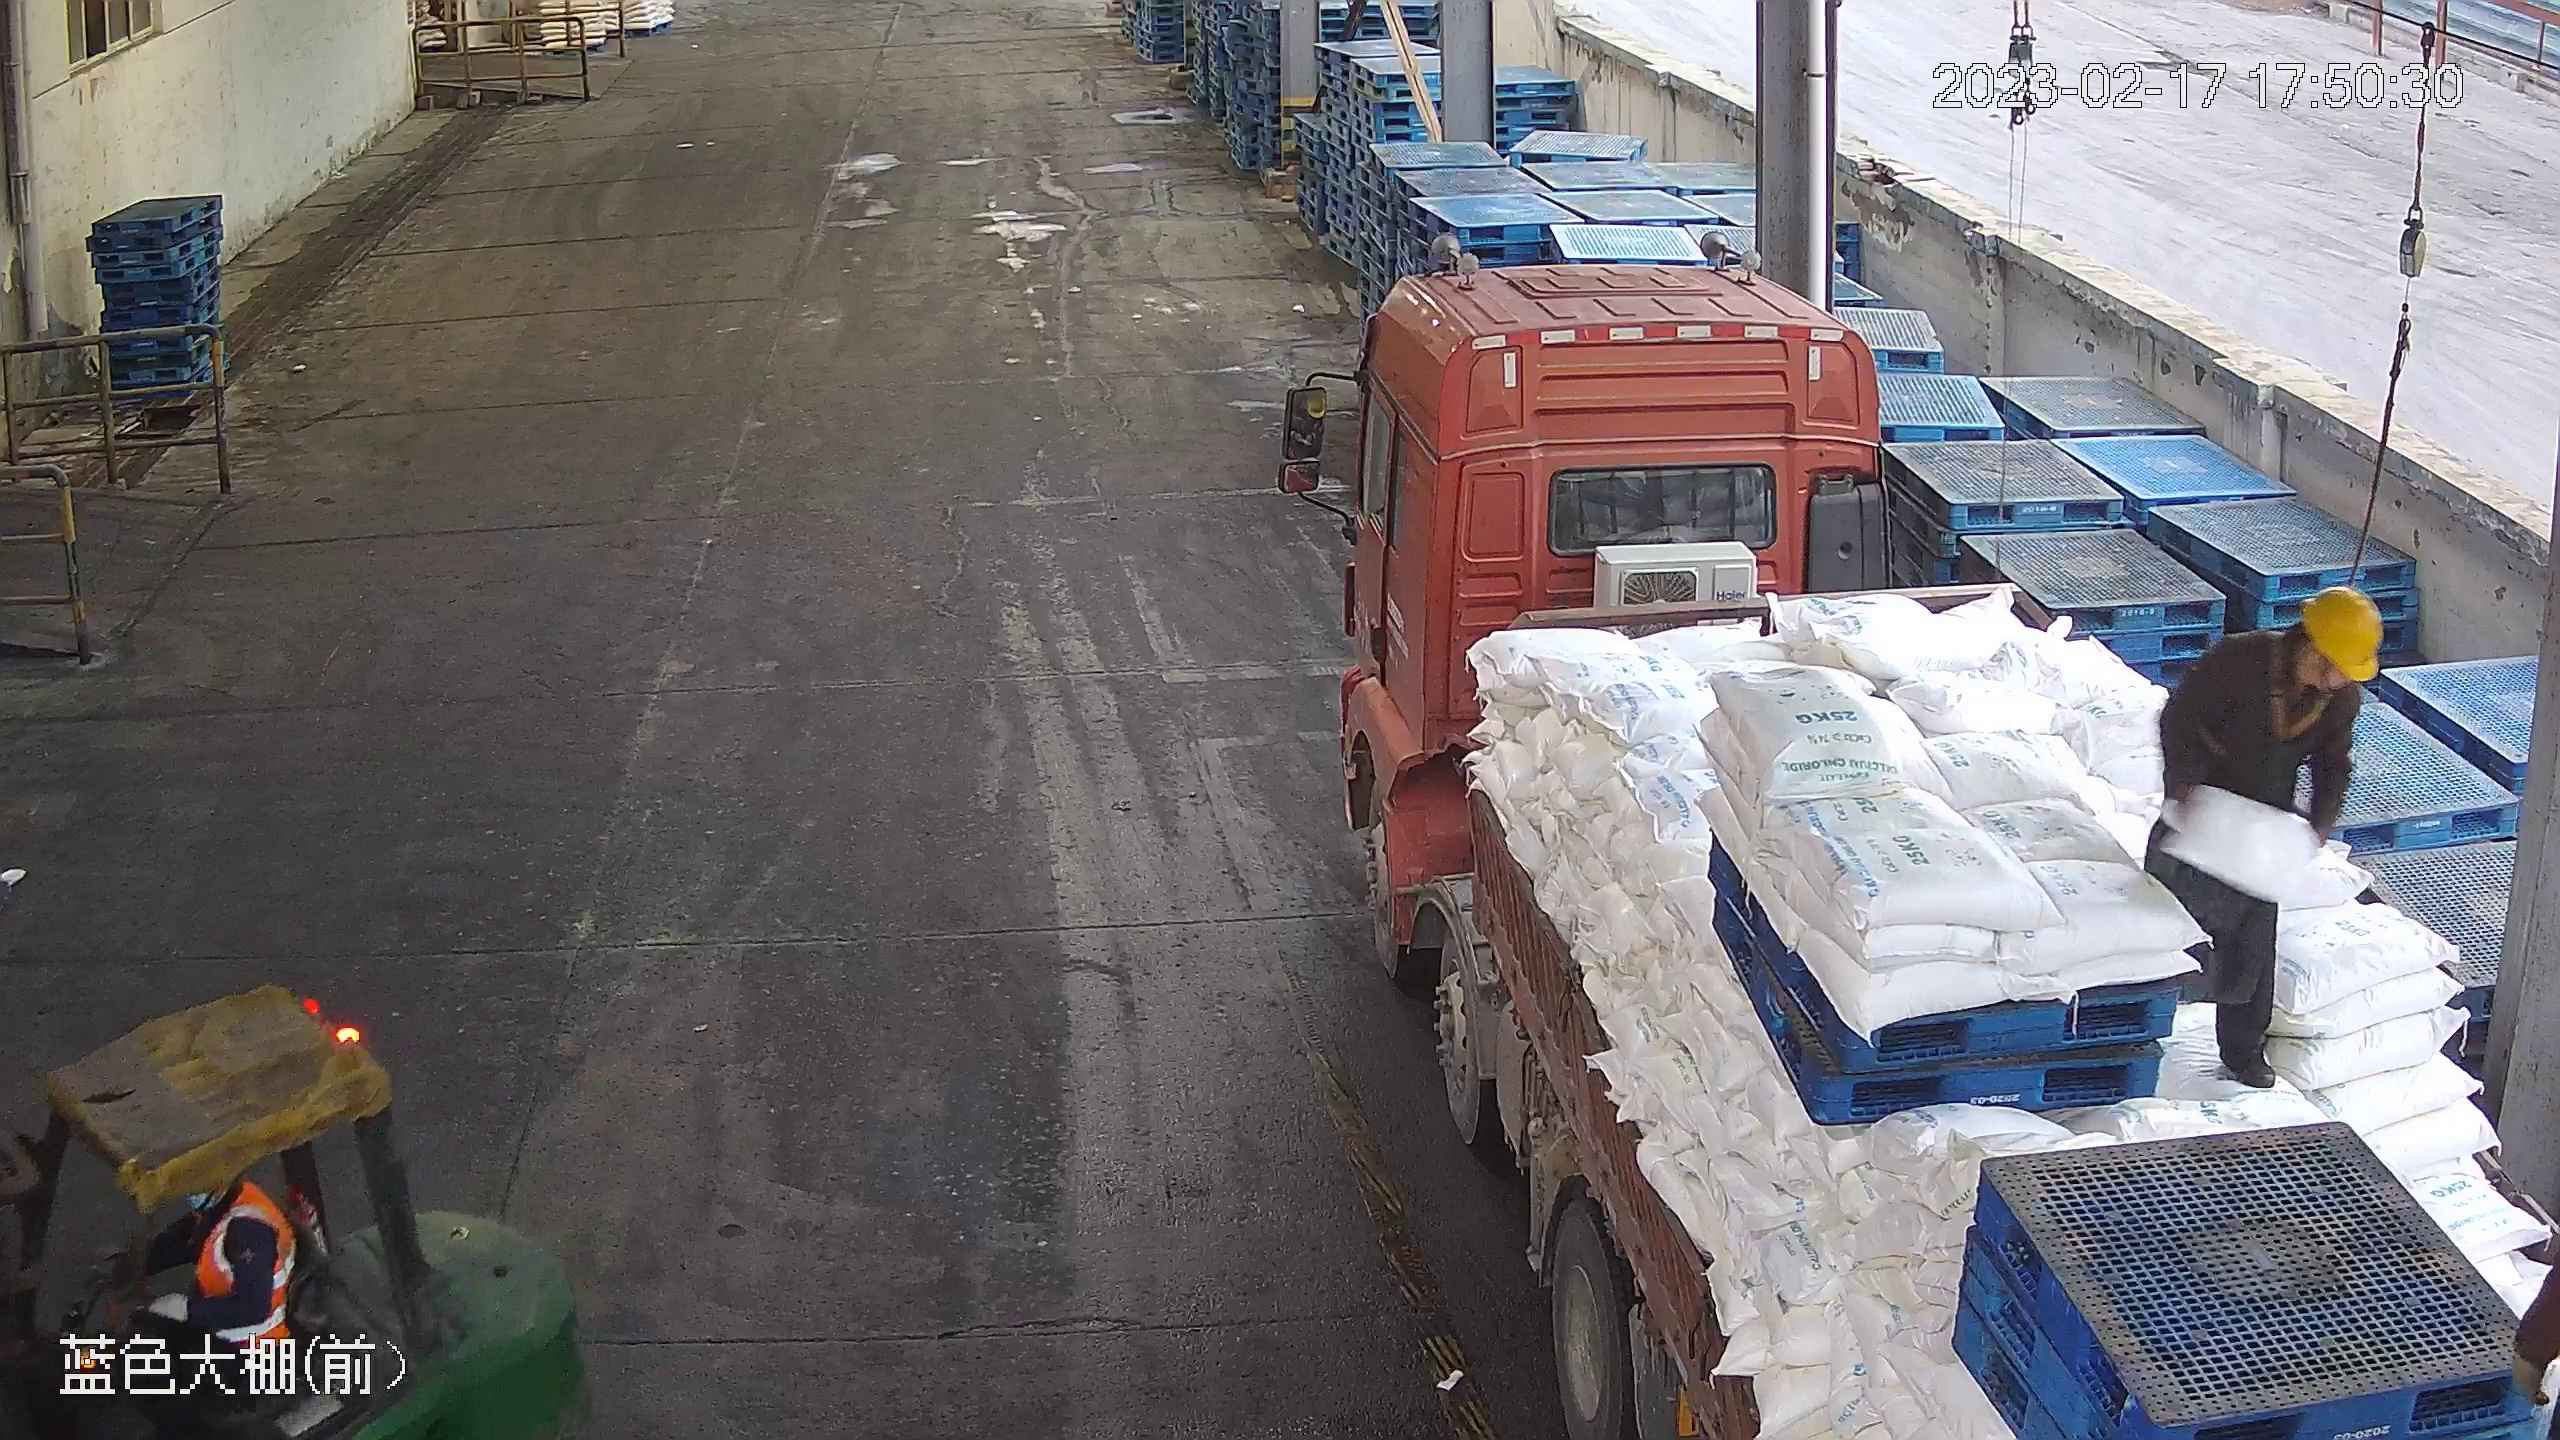belt: (2253, 636, 2340, 740)
head: (2203, 585, 2382, 717)
helmet: (2297, 583, 2384, 681)
people: (2138, 586, 2383, 1093)
truck: (1275, 235, 2559, 1440)
